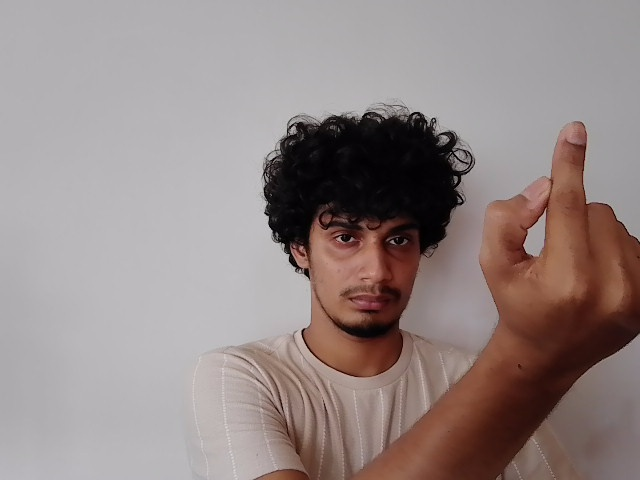just: (479, 118, 640, 341)
